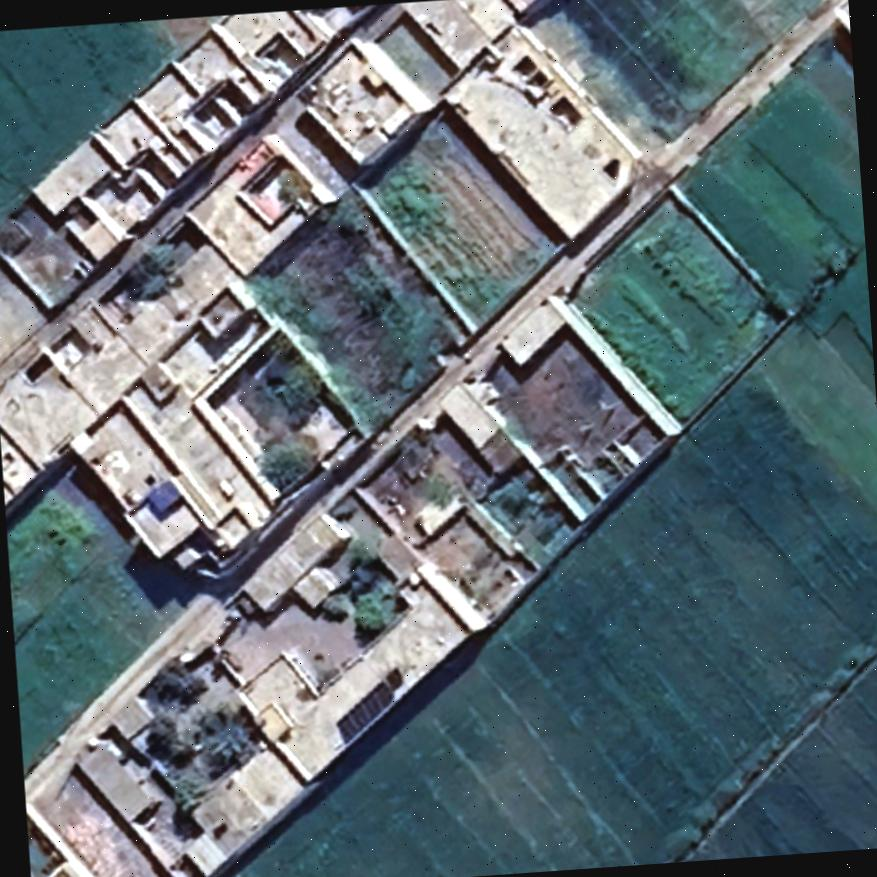Solarpanel: (330, 664, 400, 750)
